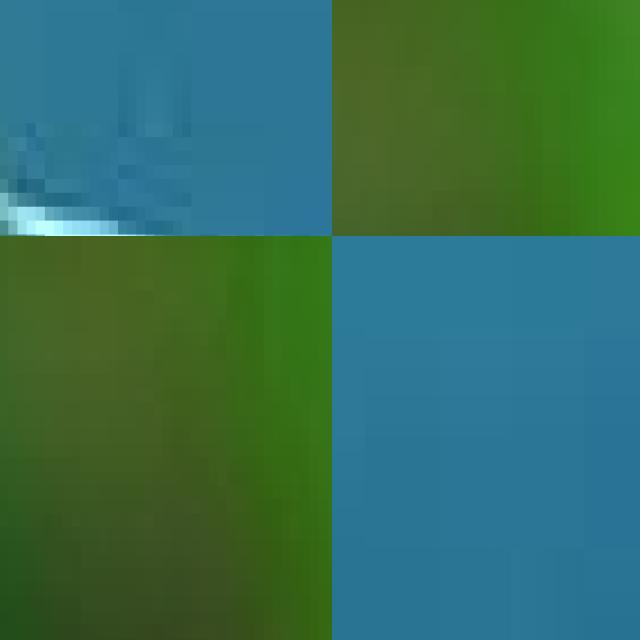fish: (0, 12, 332, 236)
